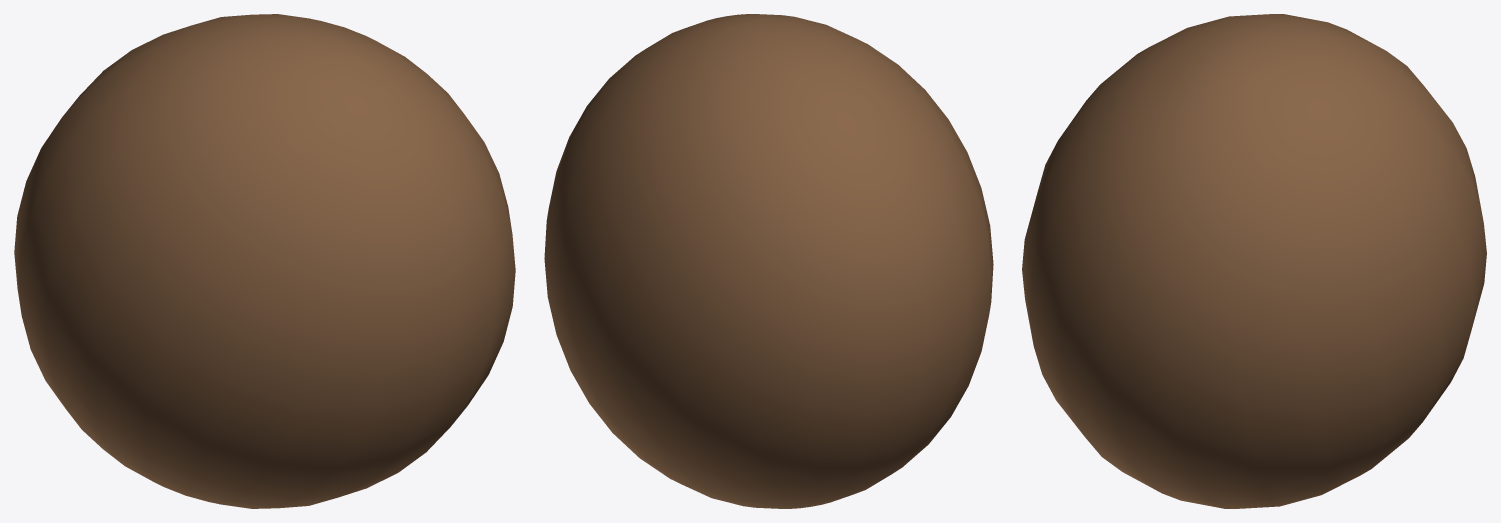
File: Right Wing joint.fbx
The picture shows the model from 3 angles, left to right: view 1: azimuth 30°, elevation 25°; view 2: azimuth 150°, elevation 25°; view 3: azimuth 270°, elevation 25°; orthographic projection.
Visible parts, largest first — view 1: polySurface62; view 2: polySurface62; view 3: polySurface62.
Part boxes in pixels (x1,y1,x2,y2): polySurface62: (14, 14, 515, 508); polySurface62: (544, 14, 993, 508); polySurface62: (1022, 14, 1486, 508).
Bounding box in the file's own units: 0.1964 × 0.204 × 0.1894.
